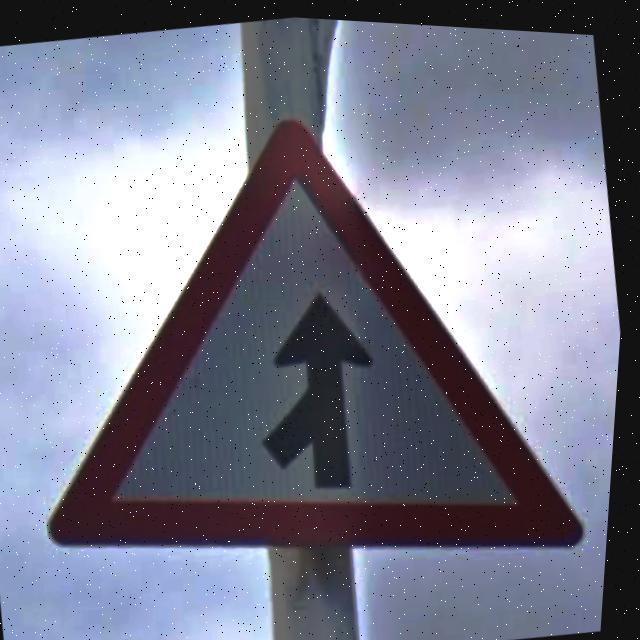leftmerge: (0, 61, 617, 623)
